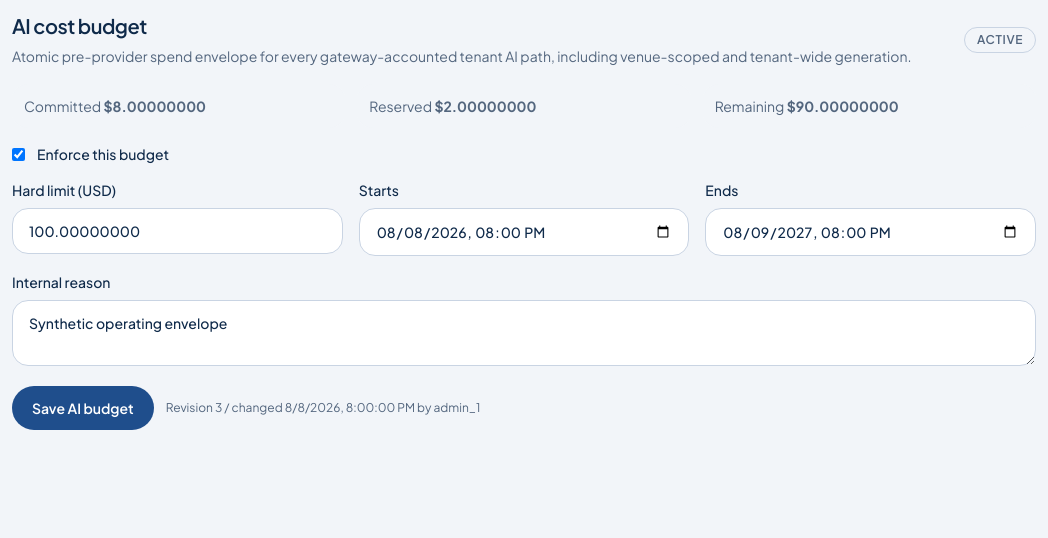
Scenario: AdminAiCostBudgetForm › uses structured conflict copy and locks mutations until an authoritative reload
The width and height of the screenshot is (1048, 538).
What coordinates should you click on to do the following:
click the button "Save AI budget"
I would click on:
 (83, 408)
Its box is [12, 386, 154, 430].
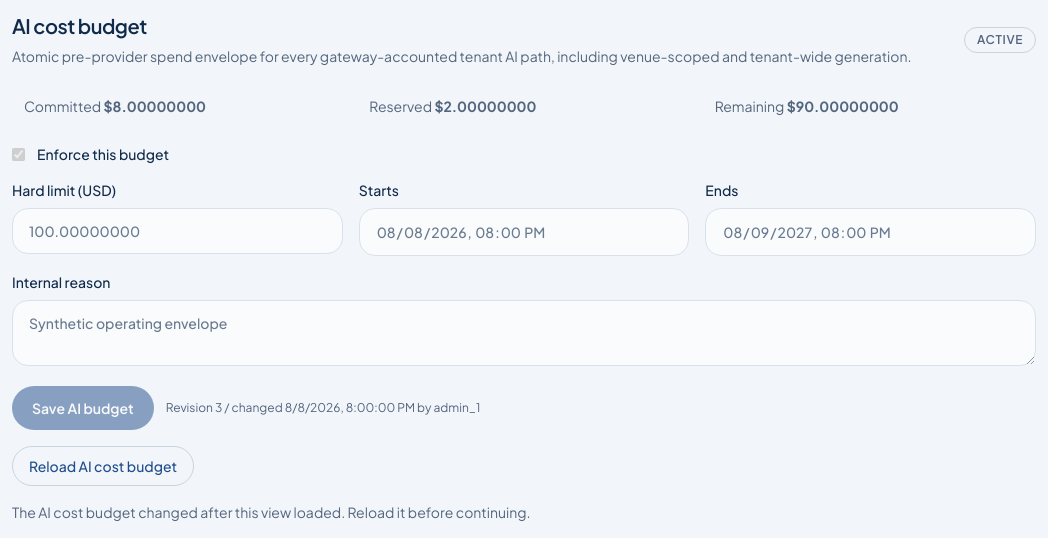
Now the message shows "changed", box [12, 503, 530, 521]
Now the button "Reload AI cost budget" is shown, box [12, 446, 194, 486]
Now the field labelled "Hard limit (USD)" is disabled, box [12, 208, 343, 254]
